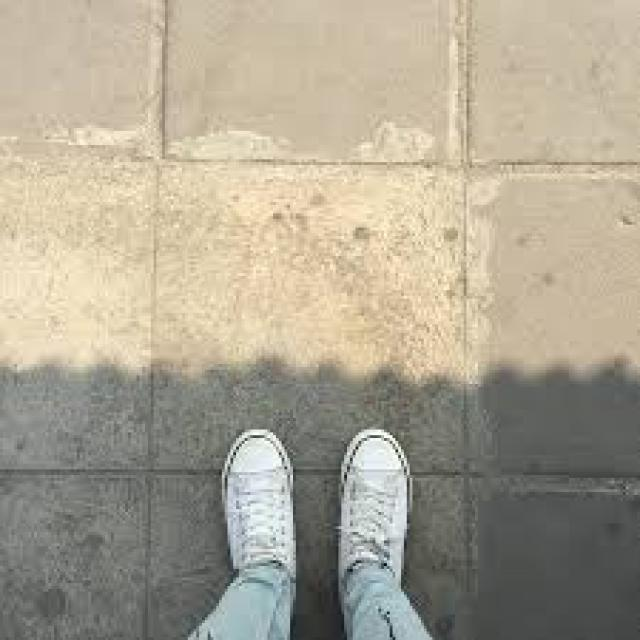shoe: (211, 421, 317, 610), (327, 426, 424, 622)
